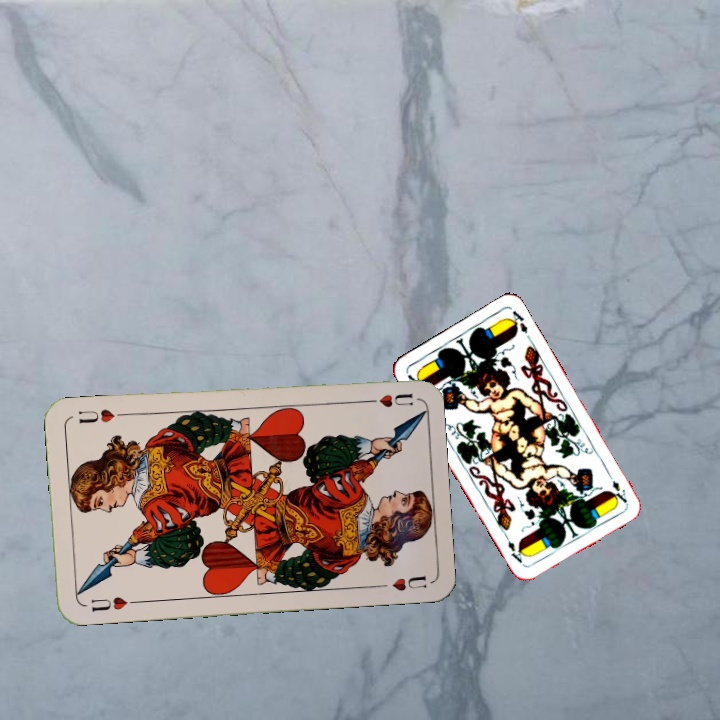EA: (603, 469, 630, 506)
HU: (87, 592, 140, 614), (358, 390, 416, 410)
